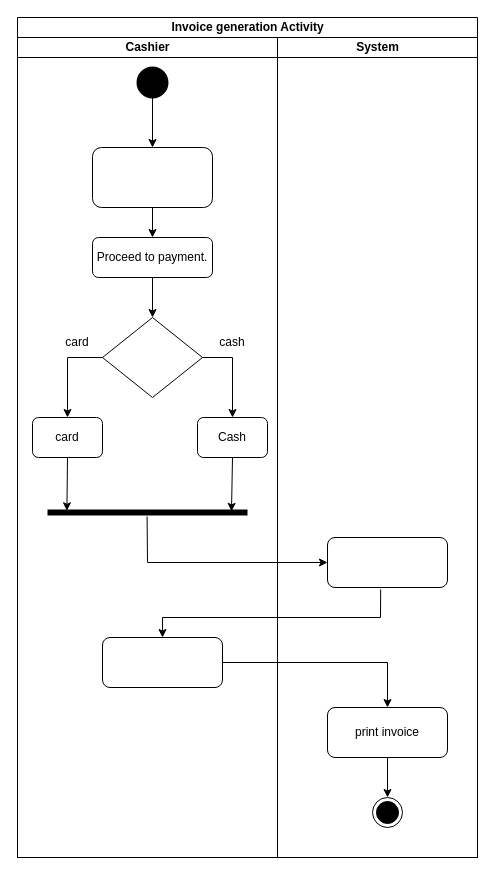
The diagram is 495 pixels wide and 875 high, and some of its shapes have lost their labels. The shapes that lost their labels are listed below. From the top down, each one's centre as x and y in pixels, then its label:
pixel 152 177: Cashier logs the items in the system.
pixel 152 357: Choose the payment method
pixel 387 562: generate invoice
pixel 162 662: verify Invoice
